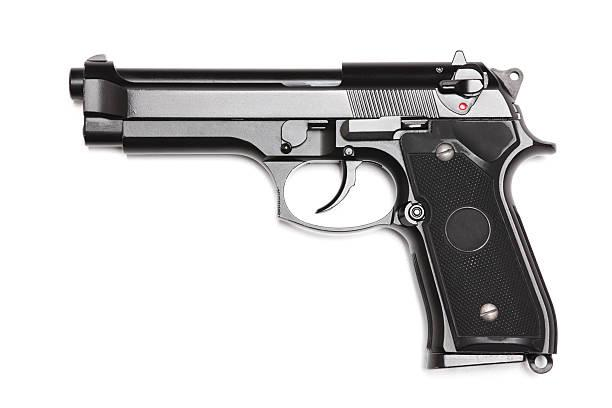weapon: (65, 49, 559, 379)
